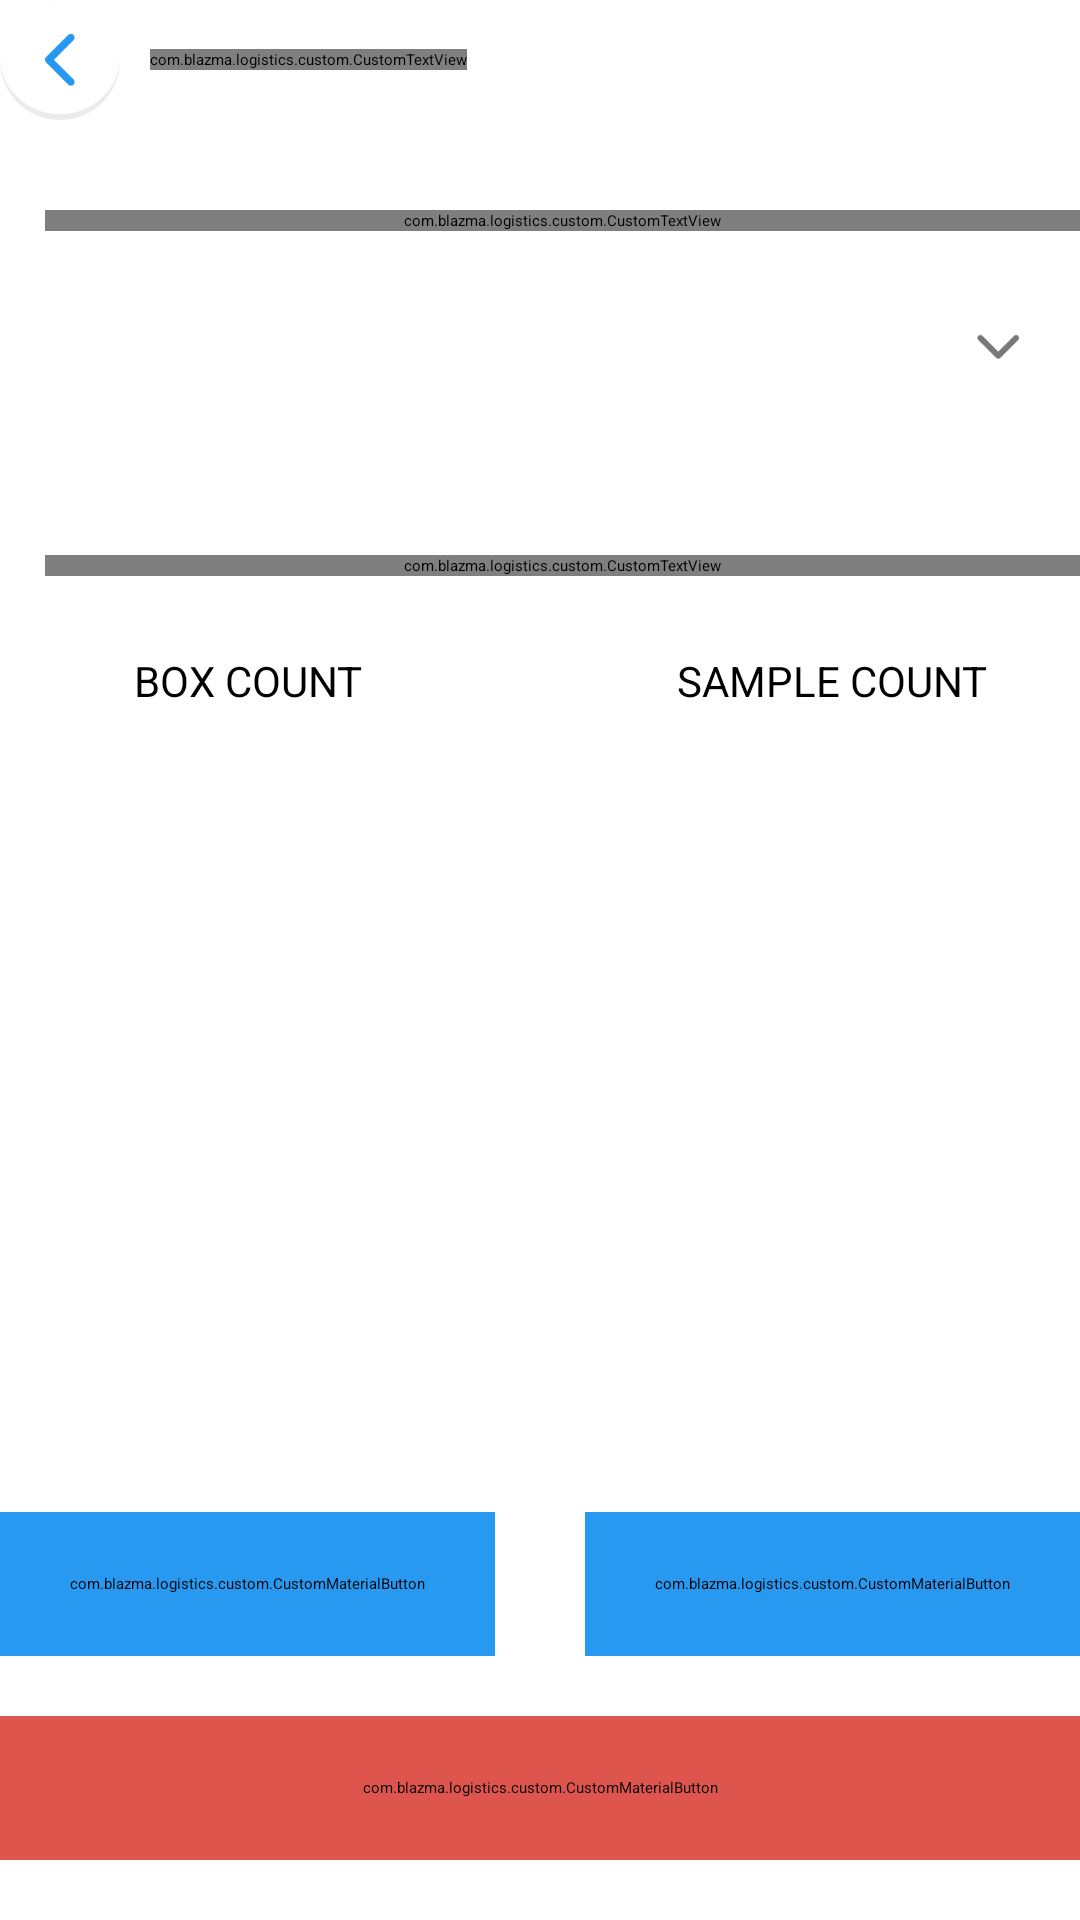

Where icons sit on this 1080 x 1920 app screen, as [x1, y1, x2, y2]:
dropdown: [977, 335, 1019, 359]
left arrow: [45, 34, 75, 86]
